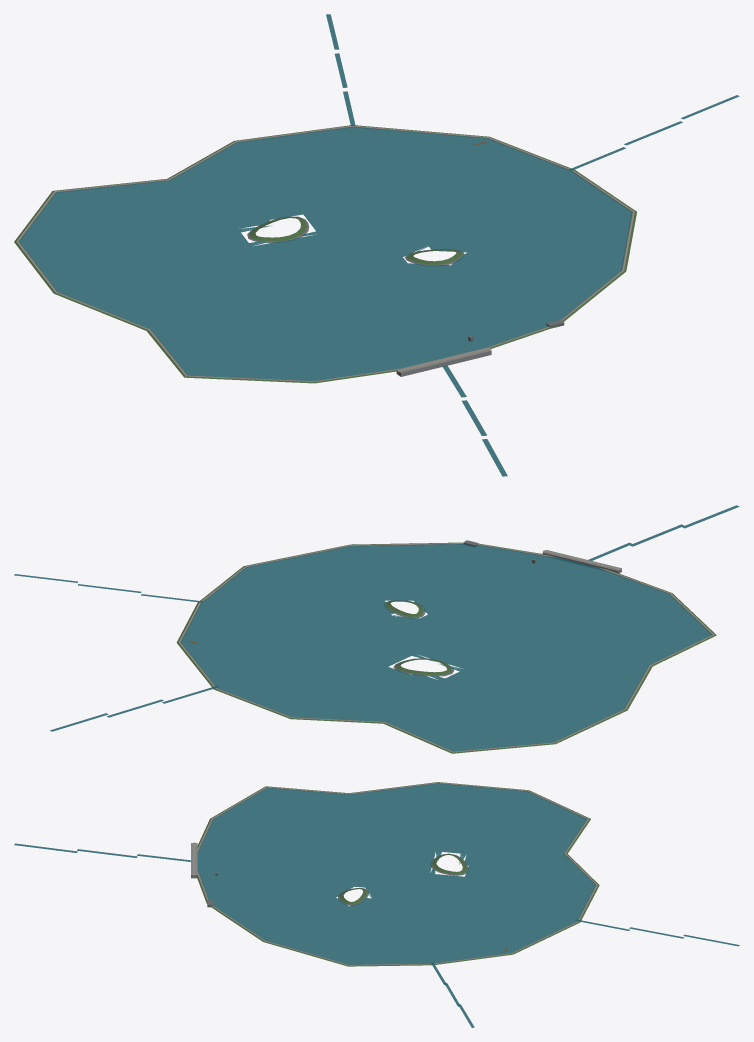
Rendered from water_ho_dong_thanh_nam_ban.glb.
3 renders of one model, top to bottom at view 1: azimuth 30°, elevation 25°; view 2: azimuth 150°, elevation 25°; view 3: azimuth 270°, elevation 25°, orthographic. The views are drawn at different scales.
Visible parts, largest first — view 1: water_surface_water_ho_dong_thanh_nam_ban, shoreline_terrain_transition_verge_water_ho_dong_thanh_nam_b, lakeside_promenade_walkway_water_ho_dong_thanh_nam_ban, embankment_stone_coping_water_ho_dong_thanh_nam_ban; view 2: water_surface_water_ho_dong_thanh_nam_ban, shoreline_terrain_transition_verge_water_ho_dong_thanh_nam_b, lakeside_promenade_walkway_water_ho_dong_thanh_nam_ban, embankment_stone_coping_water_ho_dong_thanh_nam_ban, headwater_terraces_stream_dong_thanh_south_outflow_to_nam_ba, headwater_terraces_stream_dong_thanh_north_mountain_inflow, embankment_stone_slope_water_ho_dong_thanh_nam_ban, headwater_terraces_stream_dong_thanh_east_valley_inflow; view 3: water_surface_water_ho_dong_thanh_nam_ban, shoreline_terrain_transition_verge_water_ho_dong_thanh_nam_b, lakeside_promenade_walkway_water_ho_dong_thanh_nam_ban, embankment_stone_coping_water_ho_dong_thanh_nam_ban, headwater_terraces_stream_dong_thanh_south_outflow_to_nam_ba.
Boxes of the visible parts, bbox=[...] form: water_surface_water_ho_dong_thanh_nam_ban: bbox=[19, 127, 631, 380]; shoreline_terrain_transition_verge_water_ho_dong_thanh_nam_b: bbox=[14, 125, 636, 383]; lakeside_promenade_walkway_water_ho_dong_thanh_nam_ban: bbox=[16, 126, 634, 381]; embankment_stone_coping_water_ho_dong_thanh_nam_ban: bbox=[18, 126, 632, 381]; water_surface_water_ho_dong_thanh_nam_ban: bbox=[181, 544, 711, 751]; shoreline_terrain_transition_verge_water_ho_dong_thanh_nam_b: bbox=[176, 542, 716, 753]; lakeside_promenade_walkway_water_ho_dong_thanh_nam_ban: bbox=[178, 543, 714, 752]; embankment_stone_coping_water_ho_dong_thanh_nam_ban: bbox=[180, 543, 712, 751]; headwater_terraces_stream_dong_thanh_south_outflow_to_nam_ba: bbox=[588, 505, 739, 560]; headwater_terraces_stream_dong_thanh_north_mountain_inflow: bbox=[50, 685, 219, 731]; embankment_stone_slope_water_ho_dong_thanh_nam_ban: bbox=[180, 544, 711, 699]; headwater_terraces_stream_dong_thanh_east_valley_inflow: bbox=[14, 574, 203, 602]; water_surface_water_ho_dong_thanh_nam_ban: bbox=[197, 783, 595, 964]; shoreline_terrain_transition_verge_water_ho_dong_thanh_nam_b: bbox=[197, 782, 599, 966]; lakeside_promenade_walkway_water_ho_dong_thanh_nam_ban: bbox=[197, 782, 597, 965]; embankment_stone_coping_water_ho_dong_thanh_nam_ban: bbox=[197, 783, 596, 964]; headwater_terraces_stream_dong_thanh_south_outflow_to_nam_ba: bbox=[14, 843, 190, 861].
Size of the model in its own units: 2034 by 48 by 2484.
